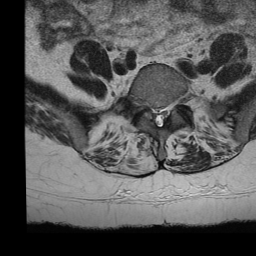CCS_normal: (155, 99, 162, 133)
LFS_normal: (170, 92, 177, 116)
LLS_normal: (162, 96, 170, 127)
RFS_severe_stenosis: (141, 91, 148, 116)
RLS_normal: (148, 98, 156, 125)
